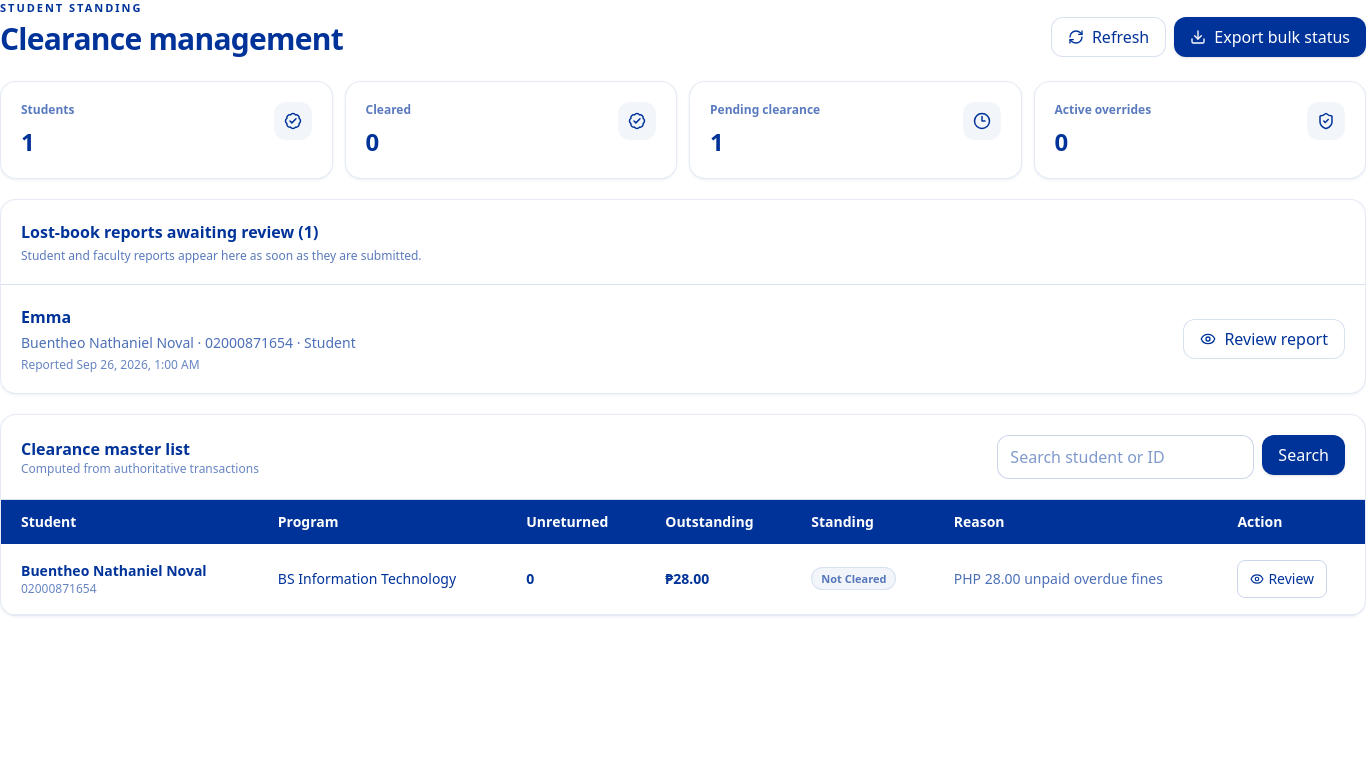
Test case: AdminClearancePage simplified exceptions › shows student lost reports in a review queue and opens the borrower record
Expected: the heading "Lost-book reports awaiting review (1)" is shown, [21,220,318,242]
Expected: the text "Emma" is shown, [21,306,71,328]
Click the button "Review report": (1264, 338) [1183,318,1345,358]
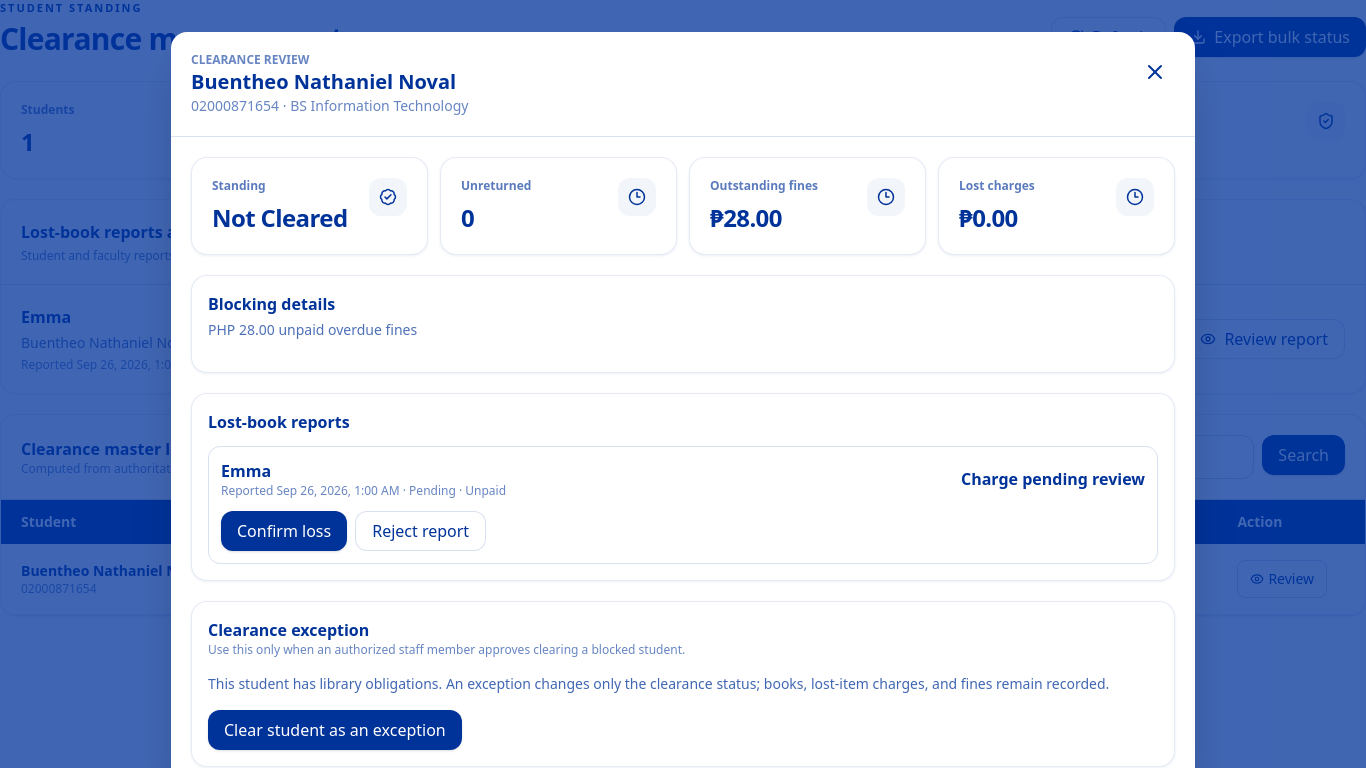
Result: the heading "Lost-book reports" is shown at [208,411,350,433]
Result: the text "Charge pending review" is shown at [961,467,1145,491]
